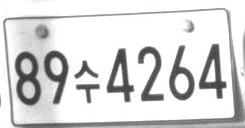2: (137, 45, 164, 100)
4: (199, 43, 227, 99), (106, 47, 134, 102)
6: (168, 44, 195, 101)
8: (15, 51, 41, 105)
9: (43, 50, 68, 104)
수: (73, 60, 100, 104)
